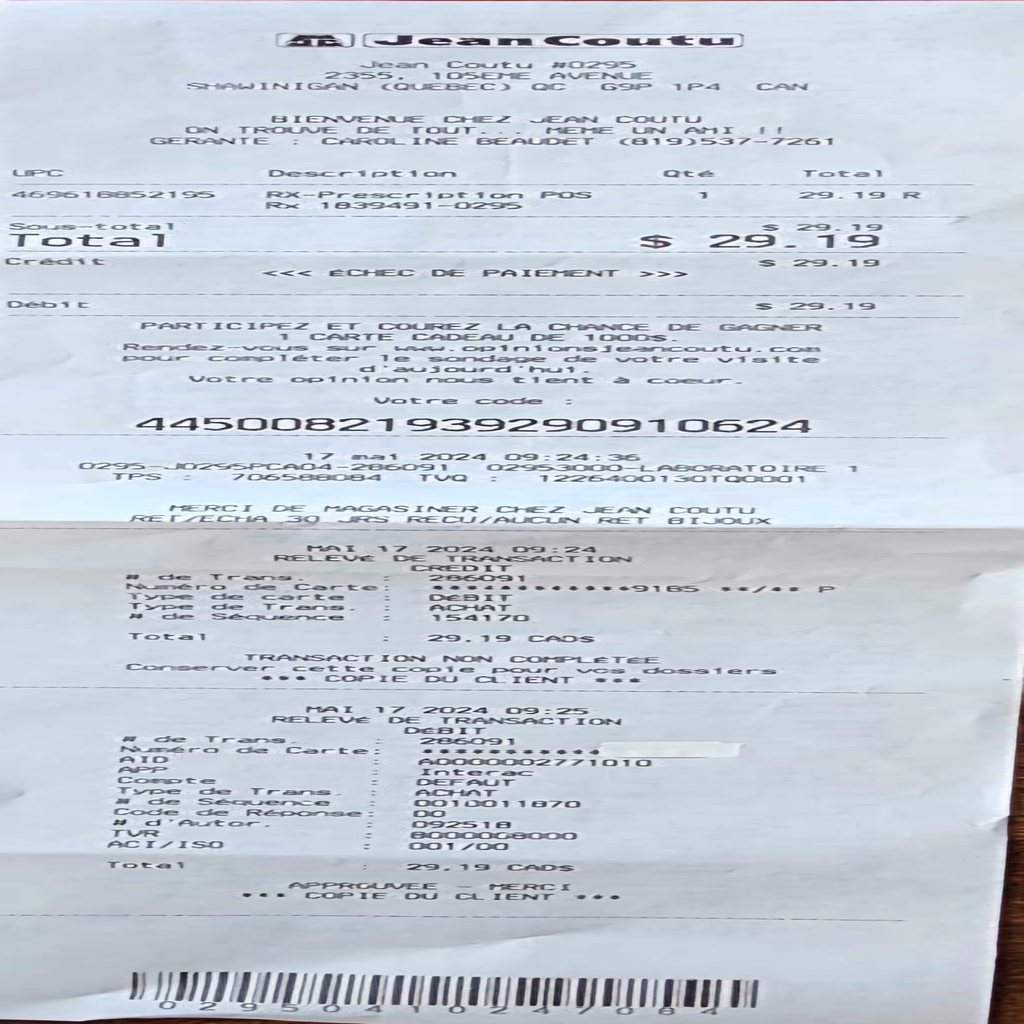recipt: (6, 0, 1018, 1018)
